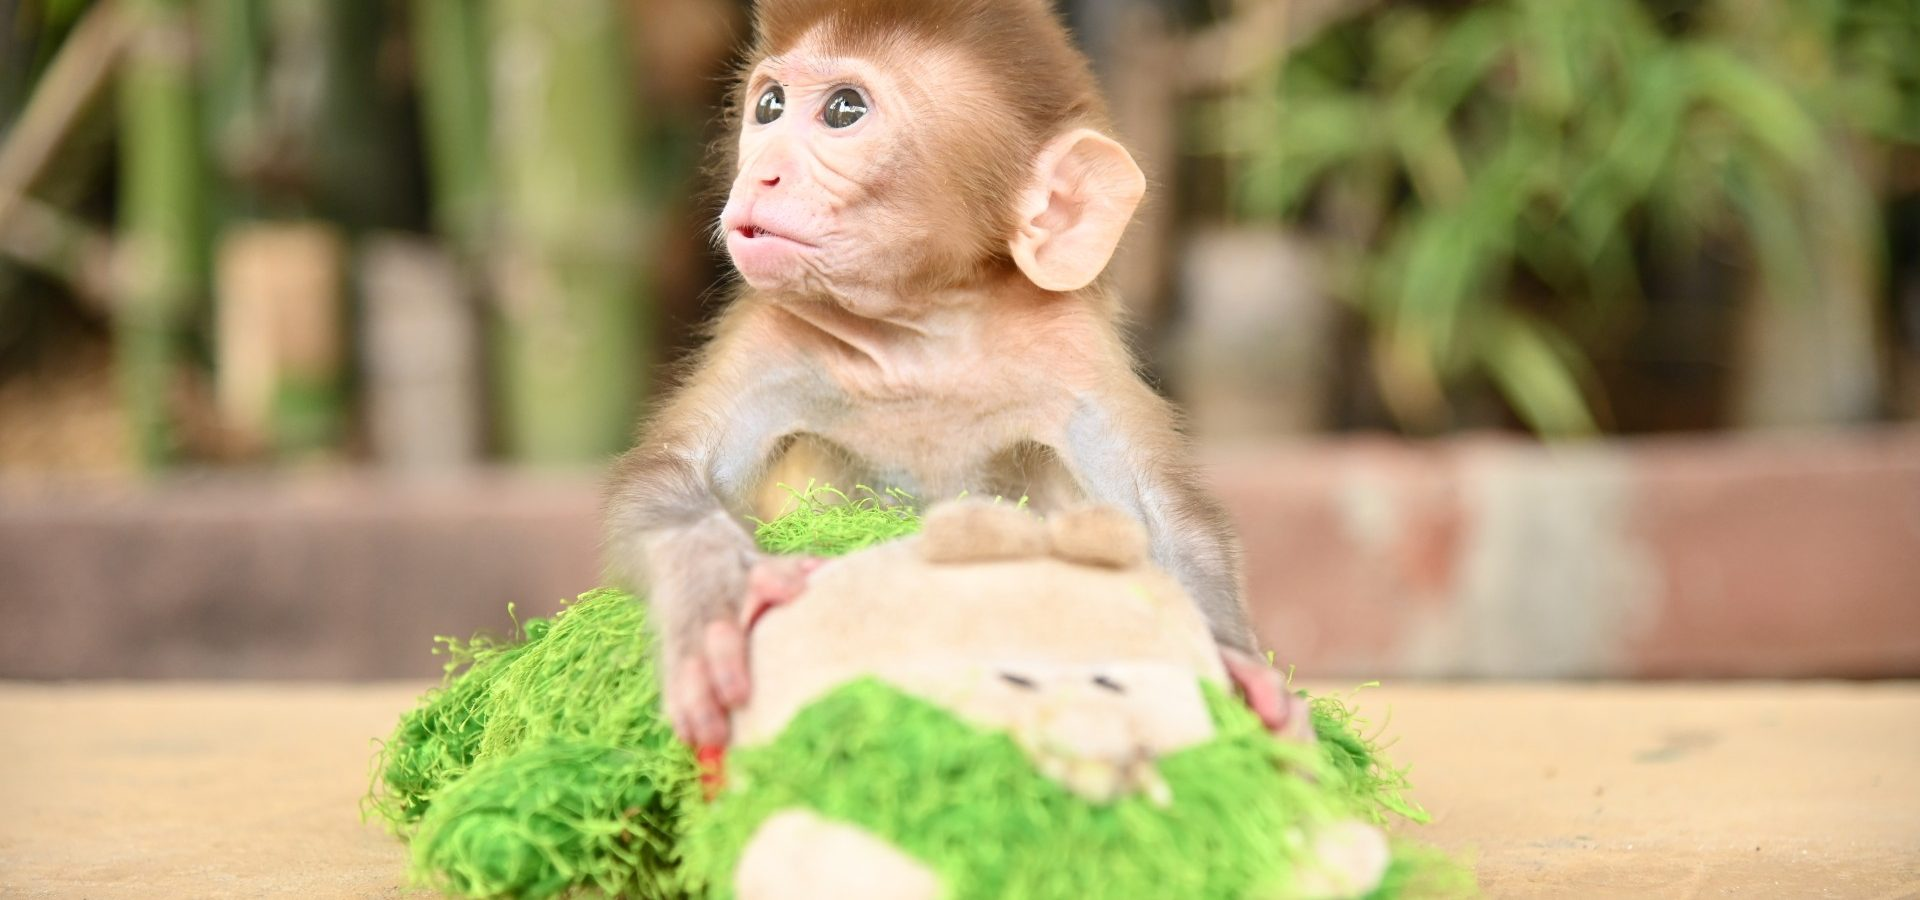monkey_face: (632, 13, 1144, 301)
